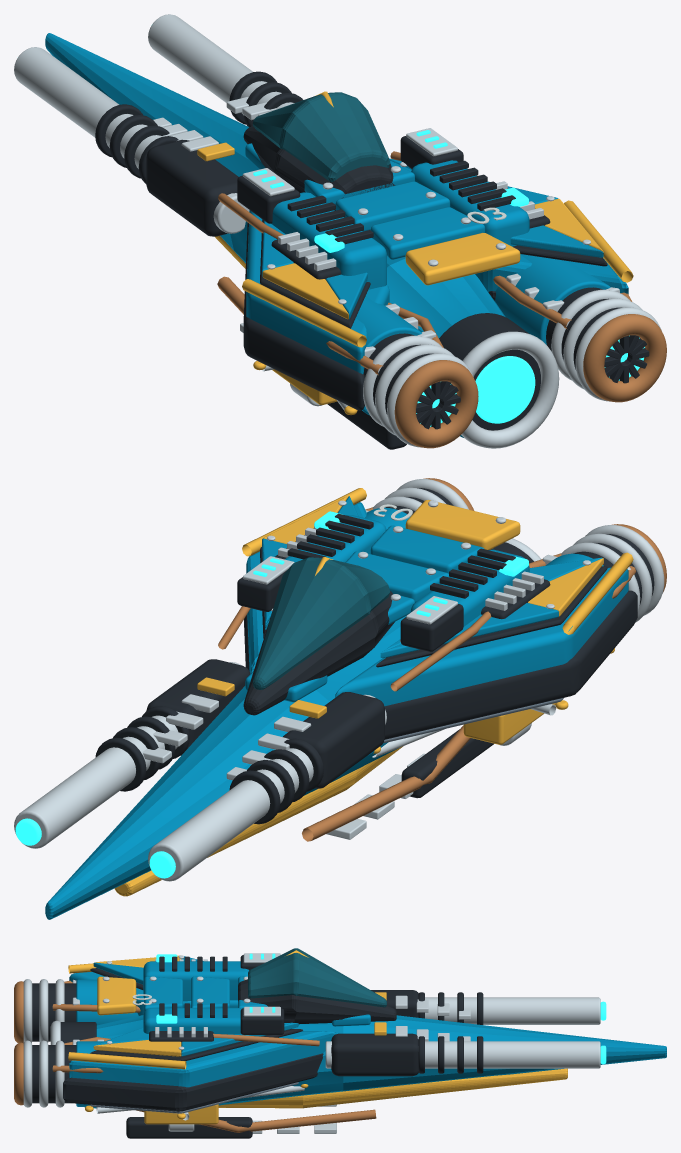
The picture shows the model from 3 angles, top to bottom: view 1: azimuth 30°, elevation 25°; view 2: azimuth 150°, elevation 25°; view 3: azimuth 270°, elevation 25°; orthographic projection. The views are drawn at different scales.
Visible parts, largest first — view 1: SolidHull_03; view 2: SolidHull_03; view 3: SolidHull_03.
Part boxes in pixels (x1,y1,x2,y2): SolidHull_03: (14, 14, 666, 449); SolidHull_03: (14, 478, 666, 919); SolidHull_03: (14, 948, 666, 1138).
Bounding box in the file's own units: 1.59 × 1.15 × 4.03.
